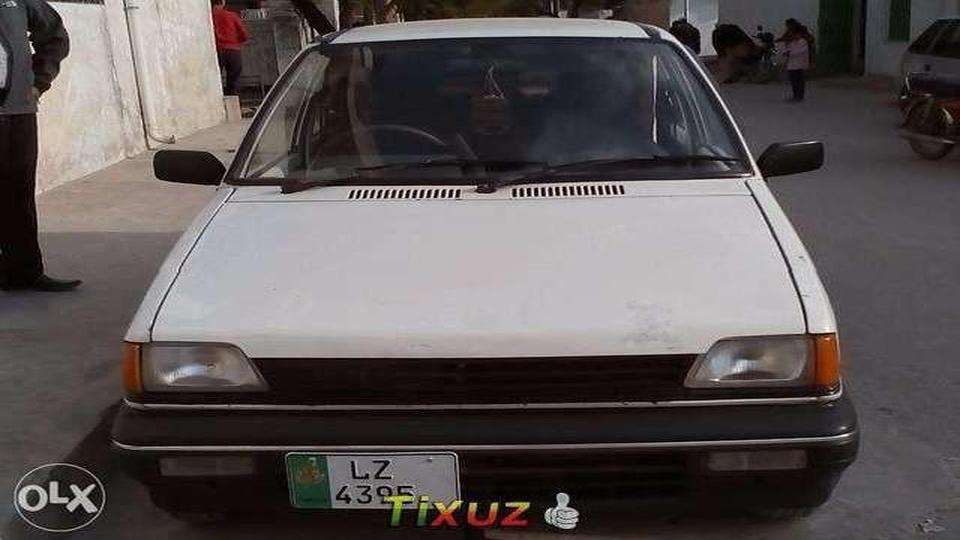NumberPlate: (268, 451, 477, 509)
